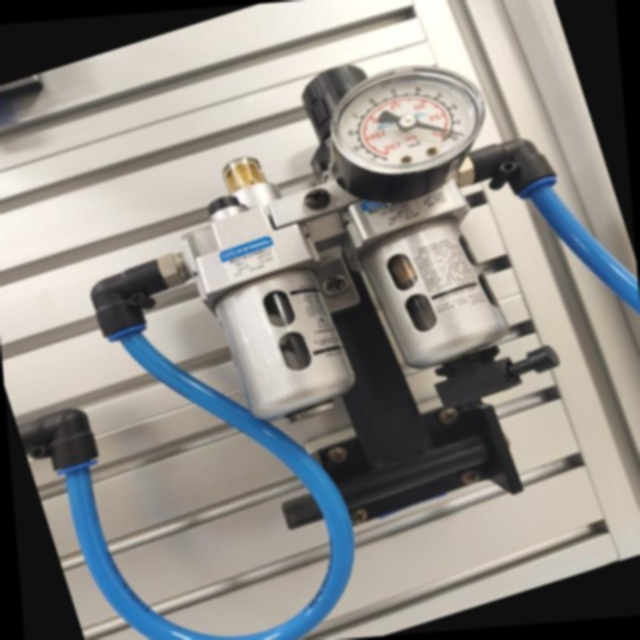FRL unit: (57, 0, 640, 607)
push button: (303, 40, 512, 222)
